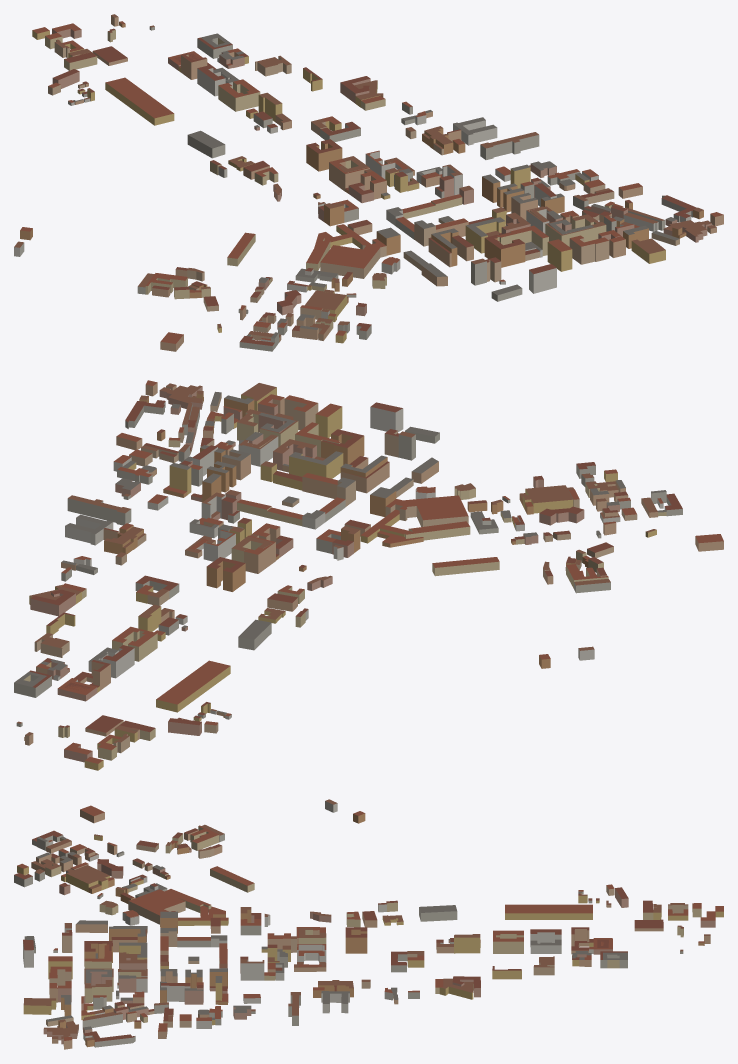
Rendered from SM_Fondale_Citta_NE_01.fbx.
The picture shows the model from 3 angles, top to bottom: view 1: azimuth 30°, elevation 25°; view 2: azimuth 150°, elevation 25°; view 3: azimuth 270°, elevation 25°; orthographic projection. The views are drawn at different scales.
Visible parts, largest first — view 1: SM_Fondale_Citta_NE_01; view 2: SM_Fondale_Citta_NE_01; view 3: SM_Fondale_Citta_NE_01.
Boxes of the visible parts, x1,y1,x2,y2 form: SM_Fondale_Citta_NE_01: [14, 14, 723, 351]; SM_Fondale_Citta_NE_01: [14, 380, 723, 770]; SM_Fondale_Citta_NE_01: [14, 799, 723, 1049].
Size of the model in its own units: 94567 by 115687 by 4177.
